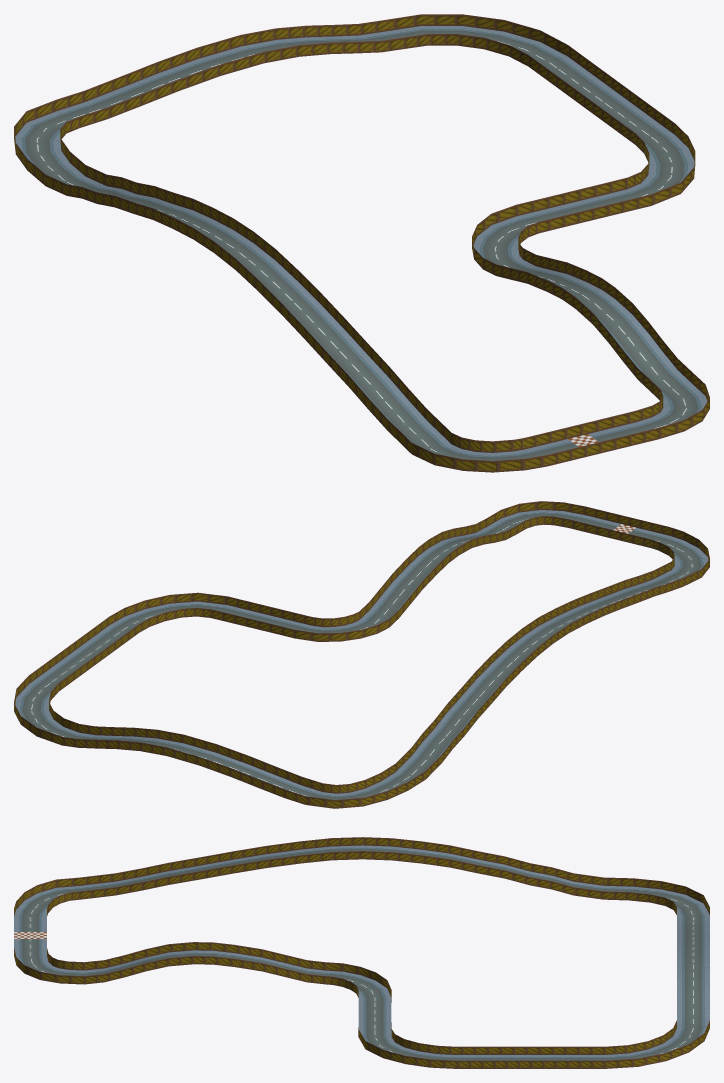
Rendered from track01.FBX.
3 renders of one model, top to bottom at view 1: azimuth 30°, elevation 25°; view 2: azimuth 150°, elevation 25°; view 3: azimuth 270°, elevation 25°, orthographic. The views are drawn at different scales.
Visible parts, largest first — view 1: fence, road; view 2: fence, road; view 3: fence, road.
Part boxes in pixels (x1=…): fence: x1=14, y1=14, x2=709, y2=472; road: x1=15, y1=26, x2=707, y2=460; fence: x1=14, y1=501, x2=709, y2=808; road: x1=15, y1=510, x2=708, y2=799; fence: x1=14, y1=837, x2=709, y2=1068; road: x1=14, y1=845, x2=709, y2=1060.
Bounding box in the file's own units: 15806 × 1962 × 25395.
